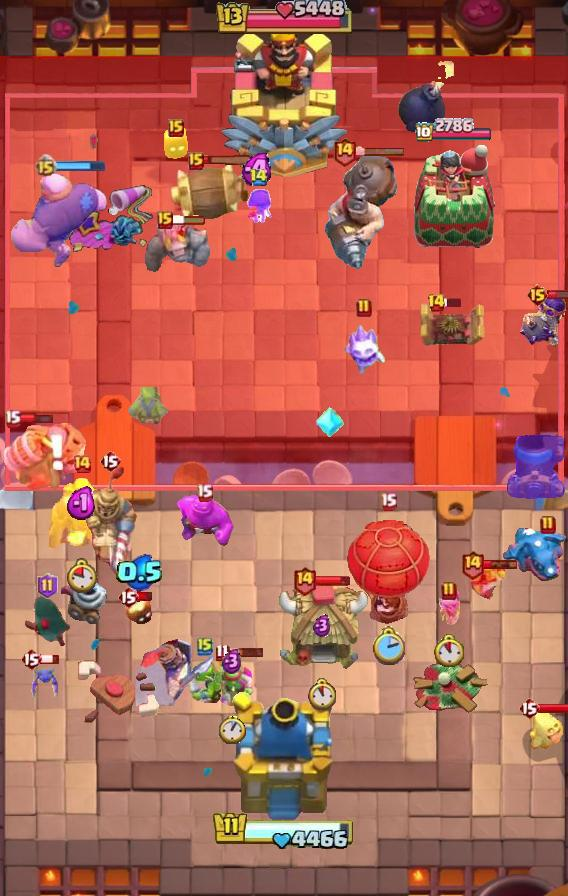bandit: (23, 595, 71, 651)
bar: (54, 160, 106, 172), (202, 155, 254, 166), (354, 146, 406, 157), (19, 412, 54, 425), (228, 646, 265, 658), (315, 575, 351, 587), (171, 214, 207, 226), (483, 559, 518, 570), (538, 702, 568, 714), (40, 653, 60, 665), (547, 289, 568, 300), (443, 297, 463, 308), (137, 591, 154, 602)
bar-level: (292, 565, 317, 596), (460, 549, 485, 580), (332, 136, 357, 167), (526, 283, 549, 307), (37, 573, 58, 599), (34, 154, 57, 177), (518, 696, 540, 720), (20, 647, 42, 671), (117, 585, 139, 609), (99, 449, 121, 473), (72, 454, 92, 474), (427, 293, 446, 313), (249, 168, 268, 187), (380, 492, 397, 511), (196, 483, 213, 502), (4, 409, 21, 428), (197, 636, 213, 656), (441, 581, 457, 601), (540, 515, 556, 535), (356, 298, 372, 318), (157, 211, 173, 229), (188, 152, 204, 170), (168, 119, 184, 137), (215, 643, 230, 662)
barbarian-barrel: (167, 160, 251, 222)
bat-evolution: (29, 662, 61, 704)
bomb: (397, 61, 457, 133)
bomber-evolution: (518, 294, 568, 348)
clock: (371, 626, 405, 665), (67, 558, 98, 593), (306, 678, 338, 711), (434, 634, 464, 667), (219, 715, 246, 744)
electro-dragon: (500, 524, 568, 584)
elixir: (116, 554, 164, 591), (241, 153, 276, 186), (66, 486, 98, 521), (222, 648, 242, 674), (313, 614, 331, 637)
elixir-golem-mid: (172, 494, 236, 548)
fire-spirit: (125, 595, 155, 627), (162, 128, 190, 160)
goblin: (185, 656, 225, 706), (128, 387, 172, 429), (469, 562, 505, 602)
golemite: (145, 219, 211, 279)
heal-spirit: (529, 706, 563, 750)
ice-spirit-evolution: (342, 322, 386, 376)
ice-spirit-evolution-symbol: (316, 405, 344, 439)
king-tower: (219, 23, 349, 181), (227, 692, 341, 826)
king-tower-bar: (212, 810, 356, 852), (213, 0, 355, 38)
mortar: (505, 435, 565, 499)
queen-tower: (410, 145, 496, 256)
skeleton-evolution: (242, 187, 275, 227), (435, 591, 463, 627)
spear-goblin: (208, 656, 256, 706)
tesla: (416, 300, 486, 350)
tower-bar: (414, 118, 493, 144)
zappy: (61, 570, 109, 624)
